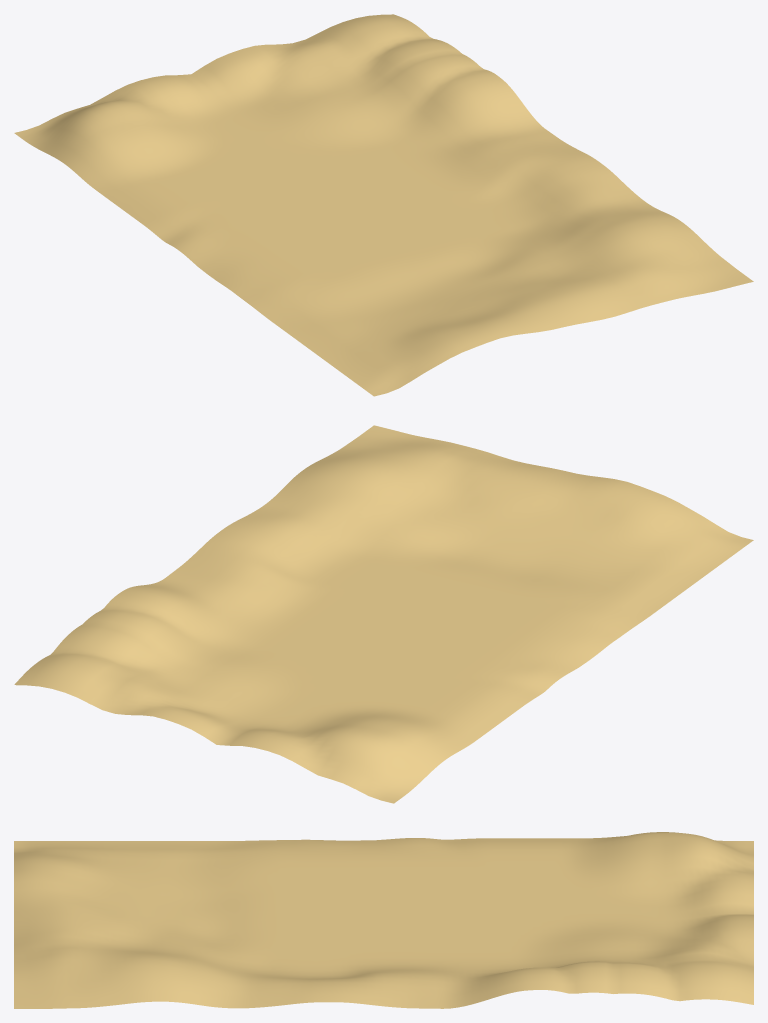
Rendered from beach_flat.fbx.
3 views of the same model, one above another, from view 1: azimuth 30°, elevation 25°; view 2: azimuth 150°, elevation 25°; view 3: azimuth 270°, elevation 25° (orthographic). The views are drawn at different scales.
Visible parts, largest first — view 1: Beach; view 2: Beach; view 3: Beach.
Part boxes in pixels (bbox=[...]): Beach: bbox=[14, 14, 753, 396]; Beach: bbox=[14, 425, 753, 803]; Beach: bbox=[14, 832, 753, 1008].
Size of the model in its own units: 104 by 11.33 by 171.
